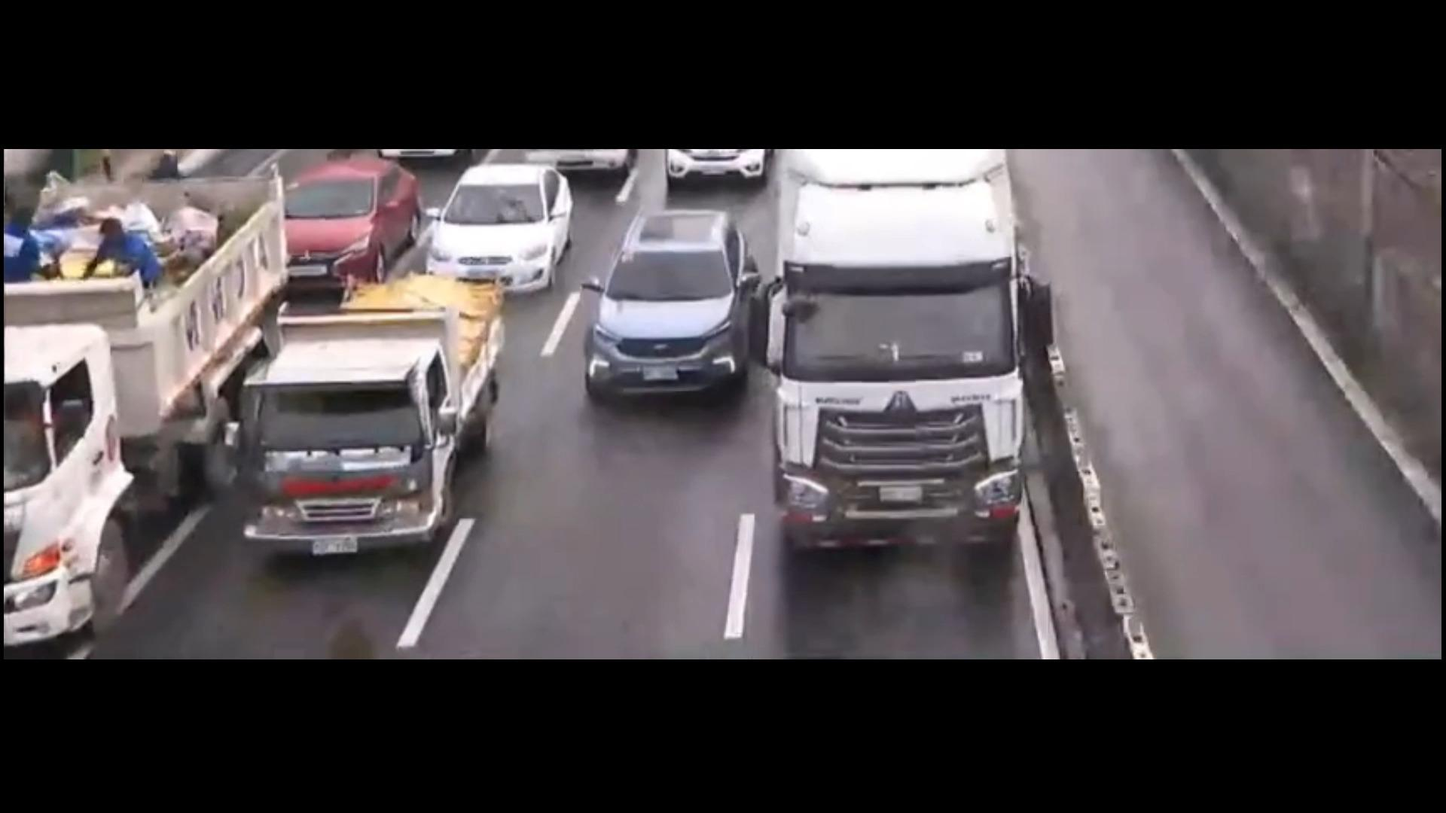SUV: (582, 209, 765, 403), (272, 158, 422, 295), (432, 165, 577, 295)
Truck: (0, 147, 298, 663), (755, 160, 1054, 574), (210, 249, 522, 569)
